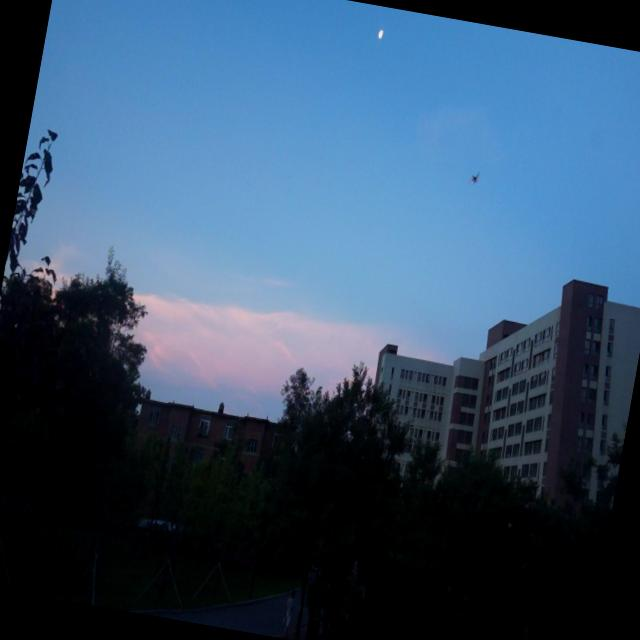drone: (468, 168, 484, 188)
